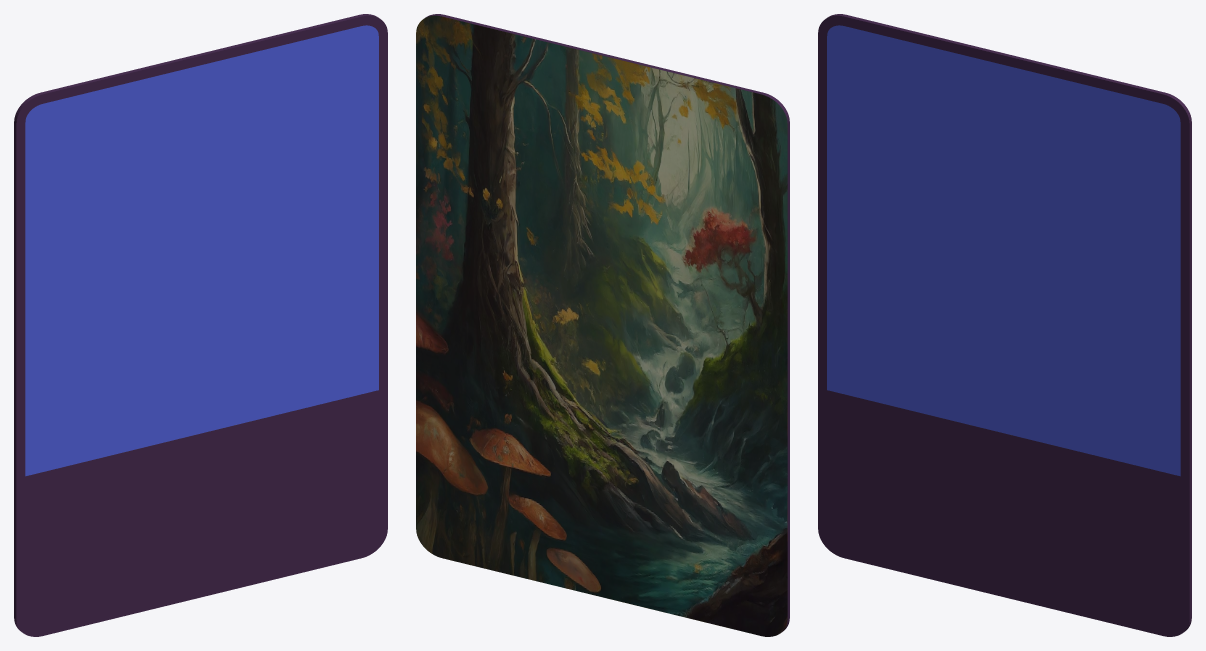
Rendered from background.glb.
3 views of the same model, side by side, from view 1: azimuth 30°, elevation 25°; view 2: azimuth 150°, elevation 25°; view 3: azimuth 330°, elevation 25° (orthographic).
Parts seen in each view (by area): view 1: Card; view 2: Card; view 3: Card.
Part boxes in pixels (left/top/right/bottom): Card: left=14, top=14, right=387, bottom=636; Card: left=416, top=14, right=789, bottom=636; Card: left=818, top=14, right=1191, bottom=636.
Size of the model in its own units: 1 by 1.39 by 0.0109.
3 materials, 1 textured.
